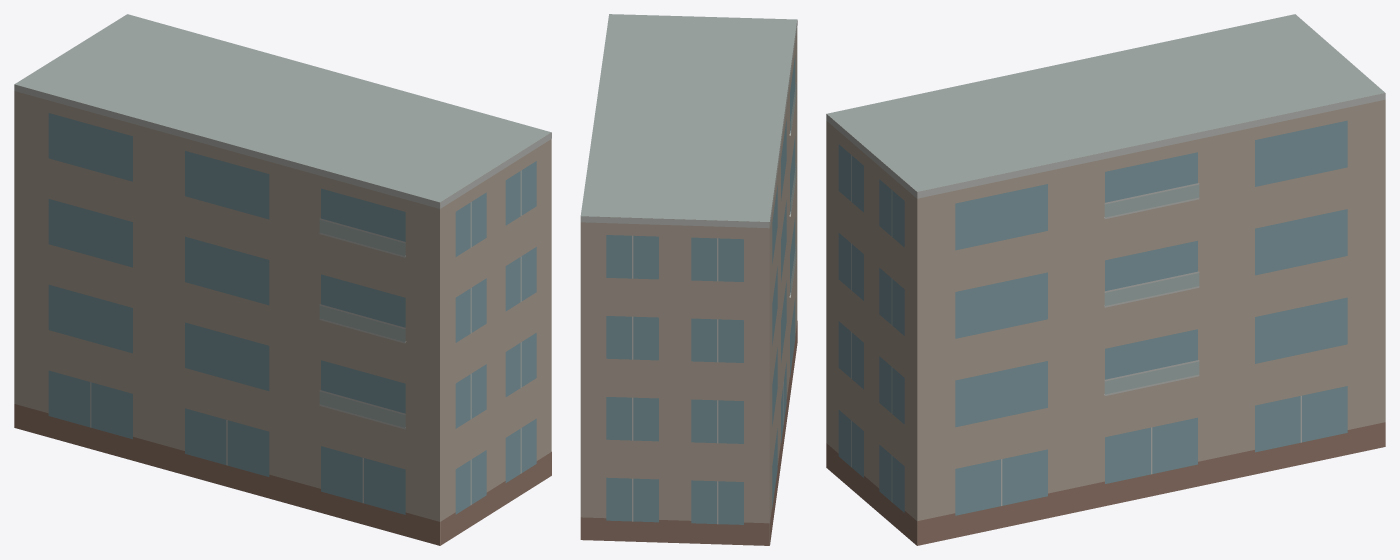
File: survey-upis-32748334.glb
The picture shows the model from 3 angles, left to right: view 1: azimuth 30°, elevation 25°; view 2: azimuth 150°, elevation 25°; view 3: azimuth 270°, elevation 25°; orthographic projection. The views are drawn at different scales.
Visible parts, largest first — view 1: survey-upis-32748334.tmp; view 2: survey-upis-32748334.tmp; view 3: survey-upis-32748334.tmp.
Boxes of the visible parts, bbox=[...] form: survey-upis-32748334.tmp: bbox=[14, 14, 551, 545]; survey-upis-32748334.tmp: bbox=[580, 14, 797, 545]; survey-upis-32748334.tmp: bbox=[826, 14, 1385, 545].
Bounding box in the file's own units: 13.92 × 12.9 × 18.48.
